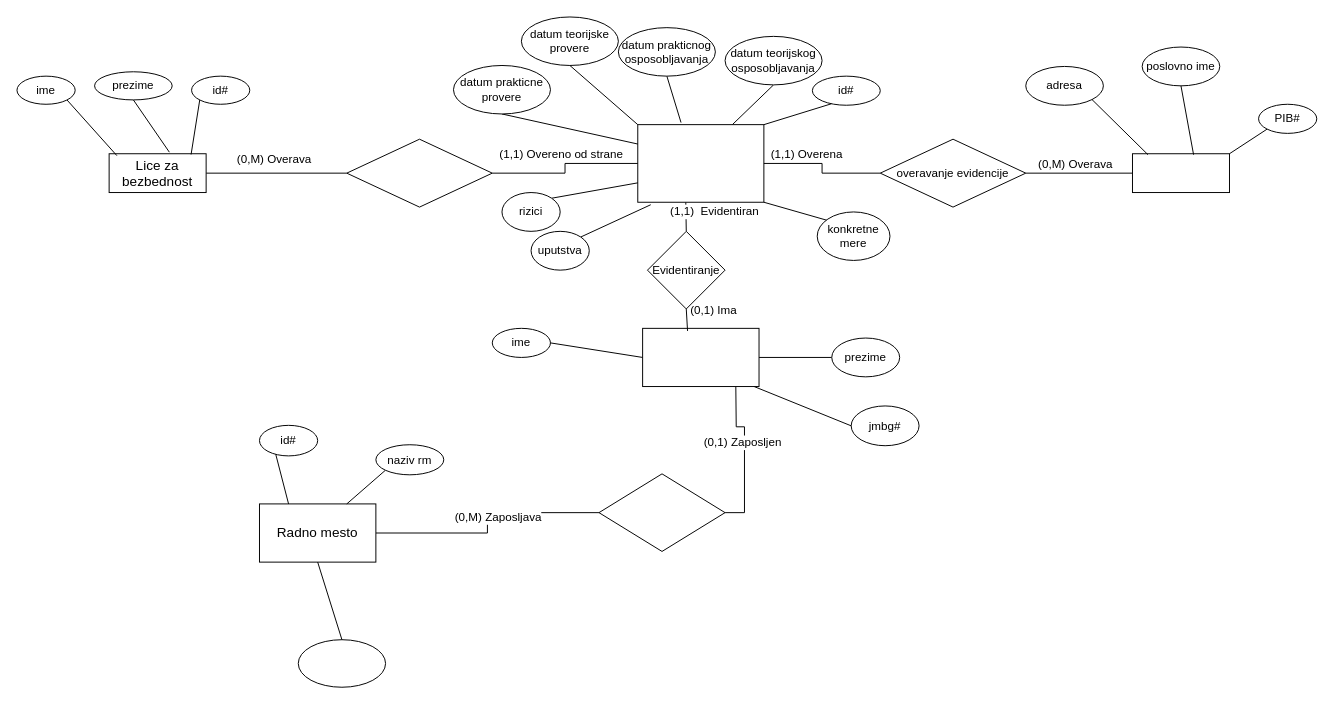
This 1334x704 diagram has some shape labels left out. Each missing label, with the centre of its shape:
Evidencija o osposobljavanju zaposlenih: point 700,163
opis poslova: point 341,663
Poslodavac: point 1180,173
Radi: point 661,512
Vodjenje evidencije: point 419,172
Zaposleni: point 700,357
